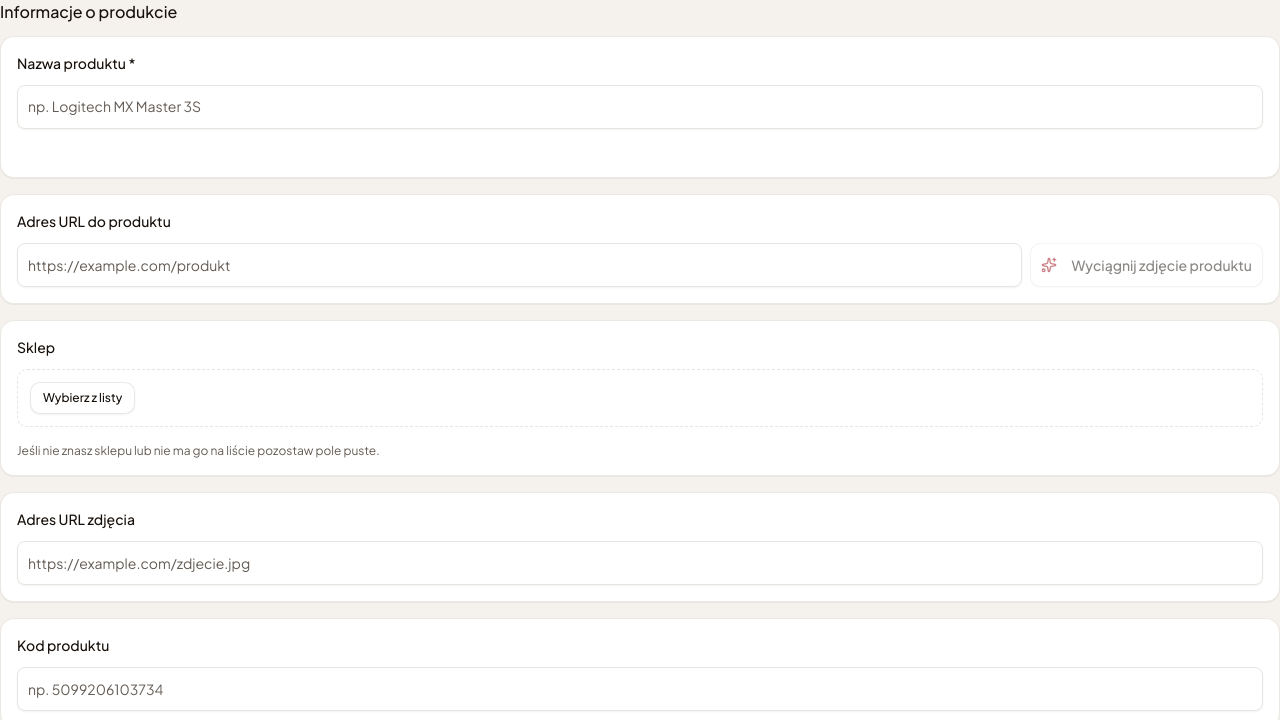
app/opinie/dodaj/_components/ProductFields › enables scrape button when productUrl is filled and fills fields on success
The width and height of the screenshot is (1280, 720).
Type "https://example.com/item" into the field labelled "Adres URL do produktu".
click(520, 265); type("https://example.com/item")  # box [17,243,1022,287]
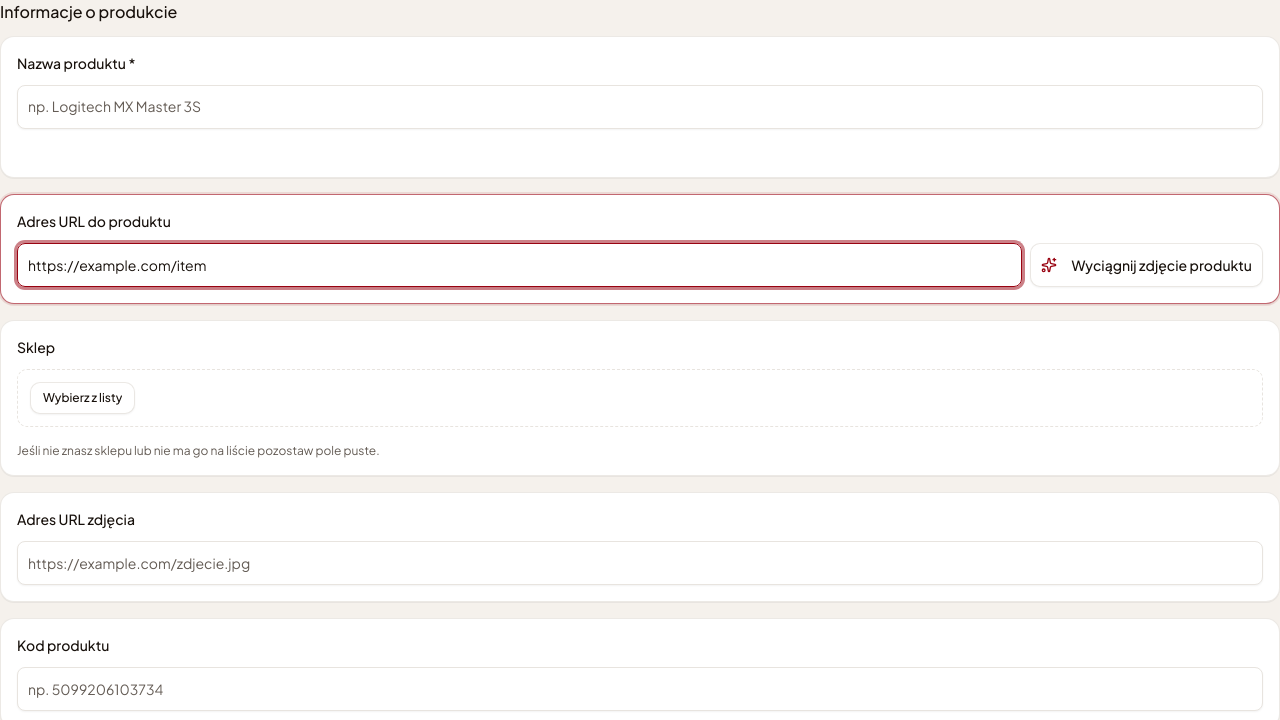
Result: the button "Wyciągnij zdjęcie produktu" is enabled
Click the button "Wyciągnij zdjęcie produktu".
click(1147, 265)  # box [1030,243,1263,287]
(page scrolled)
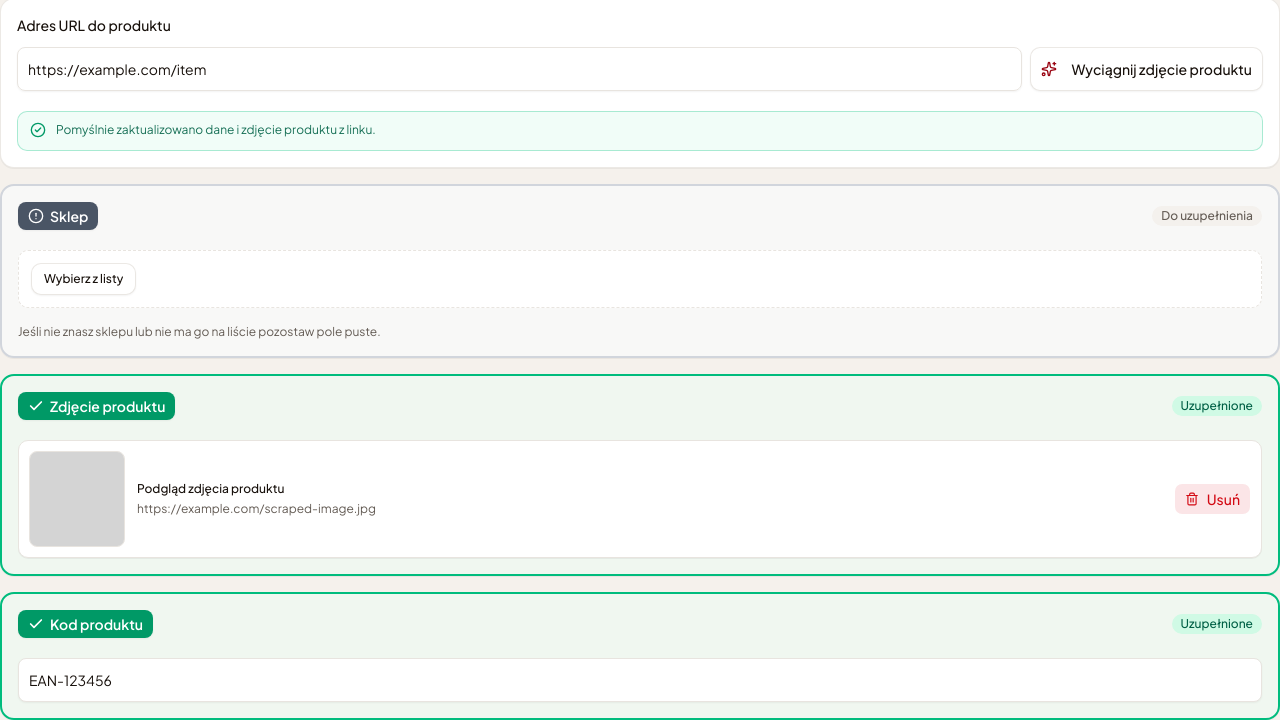
Result: the field labelled "Kod produktu" holds "EAN-123456" at [18,658,1262,702]
Result: the text labelled "Adres URL zdjęcia" is gone
Result: the text "Podgląd zdjęcia produktu" is shown at [137,480,284,496]
